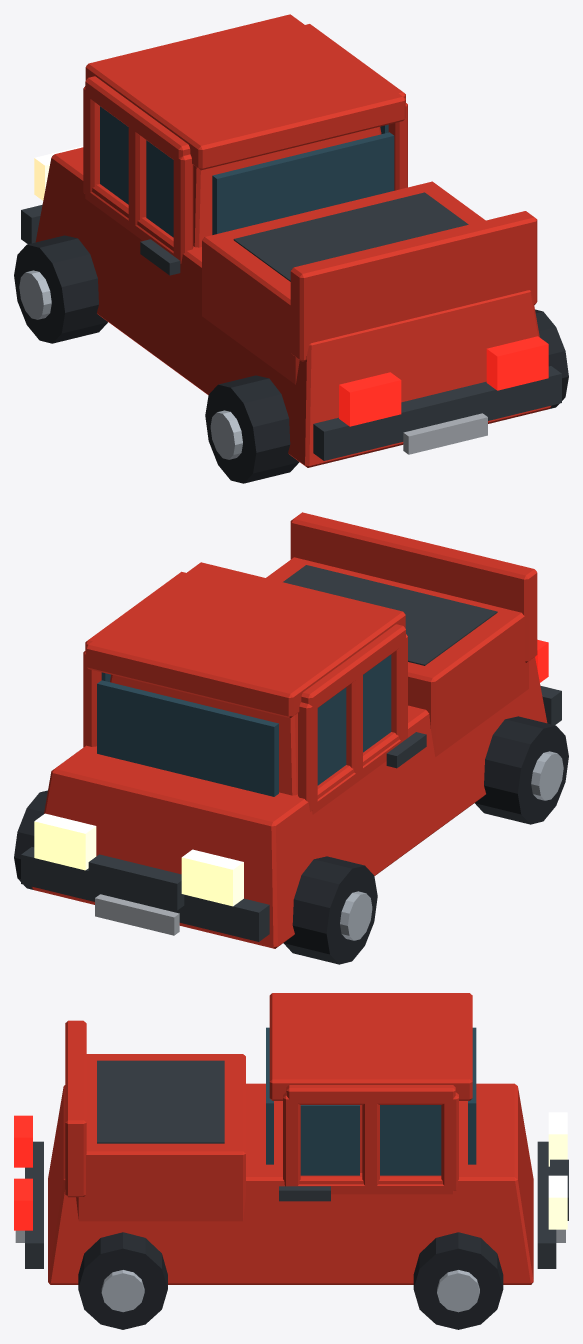
The model's file is npc_toy_pickup.glb.
The picture shows the model from 3 angles, top to bottom: view 1: azimuth 30°, elevation 25°; view 2: azimuth 150°, elevation 25°; view 3: azimuth 270°, elevation 25°; orthographic projection. The views are drawn at different scales.
Parts seen in each view (by area): view 1: NPC_Toy_Pickup_Paint, NPC_Toy_Pickup_Trim, NPC_Toy_Pickup_Glass, npc_toy_pickup_Wheel_RL_Tire, npc_toy_pickup_Wheel_FL_Tire, NPC_Toy_Pickup_Rear, NPC_Toy_Pickup_Silver, npc_toy_pickup_Wheel_RL_Hub, npc_toy_pickup_Wheel_FL_Hub, npc_toy_pickup_Wheel_RR_Tire, NPC_Toy_Pickup_Light; view 2: NPC_Toy_Pickup_Paint, NPC_Toy_Pickup_Glass, NPC_Toy_Pickup_Trim, npc_toy_pickup_Wheel_RL_Tire, npc_toy_pickup_Wheel_FL_Tire, NPC_Toy_Pickup_Light, NPC_Toy_Pickup_Silver, npc_toy_pickup_Wheel_FL_Hub, npc_toy_pickup_Wheel_RL_Hub, npc_toy_pickup_Wheel_FR_Tire; view 3: NPC_Toy_Pickup_Paint, NPC_Toy_Pickup_Trim, NPC_Toy_Pickup_Glass, npc_toy_pickup_Wheel_FR_Tire, npc_toy_pickup_Wheel_RR_Tire, NPC_Toy_Pickup_Light, NPC_Toy_Pickup_Rear, npc_toy_pickup_Wheel_RR_Hub, npc_toy_pickup_Wheel_FR_Hub.
Part boxes in pixels (<box>): NPC_Toy_Pickup_Paint: <box>35,14,550,467</box>; NPC_Toy_Pickup_Trim: <box>21,192,561,460</box>; NPC_Toy_Pickup_Glass: <box>100,106,394,237</box>; npc_toy_pickup_Wheel_RL_Tire: <box>205,375,299,483</box>; npc_toy_pickup_Wheel_FL_Tire: <box>14,235,107,343</box>; NPC_Toy_Pickup_Rear: <box>339,336,548,426</box>; NPC_Toy_Pickup_Silver: <box>403,413,487,454</box>; npc_toy_pickup_Wheel_RL_Hub: <box>210,410,242,459</box>; npc_toy_pickup_Wheel_FL_Hub: <box>19,270,51,319</box>; npc_toy_pickup_Wheel_RR_Tire: <box>535,309,568,408</box>; NPC_Toy_Pickup_Light: <box>34,146,83,200</box>; NPC_Toy_Pickup_Paint: <box>32,512,547,948</box>; NPC_Toy_Pickup_Glass: <box>97,654,391,796</box>; NPC_Toy_Pickup_Trim: <box>21,565,561,941</box>; npc_toy_pickup_Wheel_RL_Tire: <box>475,716,568,824</box>; npc_toy_pickup_Wheel_FL_Tire: <box>283,856,377,964</box>; NPC_Toy_Pickup_Light: <box>34,813,243,906</box>; NPC_Toy_Pickup_Silver: <box>95,894,179,935</box>; npc_toy_pickup_Wheel_FL_Hub: <box>340,891,372,940</box>; npc_toy_pickup_Wheel_RL_Hub: <box>531,751,563,800</box>; npc_toy_pickup_Wheel_FR_Tire: <box>14,790,47,889</box>; NPC_Toy_Pickup_Paint: <box>48,993,533,1284</box>; NPC_Toy_Pickup_Trim: <box>25,1060,568,1268</box>; NPC_Toy_Pickup_Glass: <box>266,1027,476,1175</box>; npc_toy_pickup_Wheel_FR_Tire: <box>413,1232,503,1329</box>; npc_toy_pickup_Wheel_RR_Tire: <box>78,1232,167,1329</box>; NPC_Toy_Pickup_Light: <box>548,1112,567,1229</box>; NPC_Toy_Pickup_Rear: <box>14,1115,32,1230</box>; npc_toy_pickup_Wheel_RR_Hub: <box>101,1270,144,1312</box>; npc_toy_pickup_Wheel_FR_Hub: <box>437,1270,479,1312</box>.
Size of the model in its own units: 1.41 by 1.06 by 2.35.
